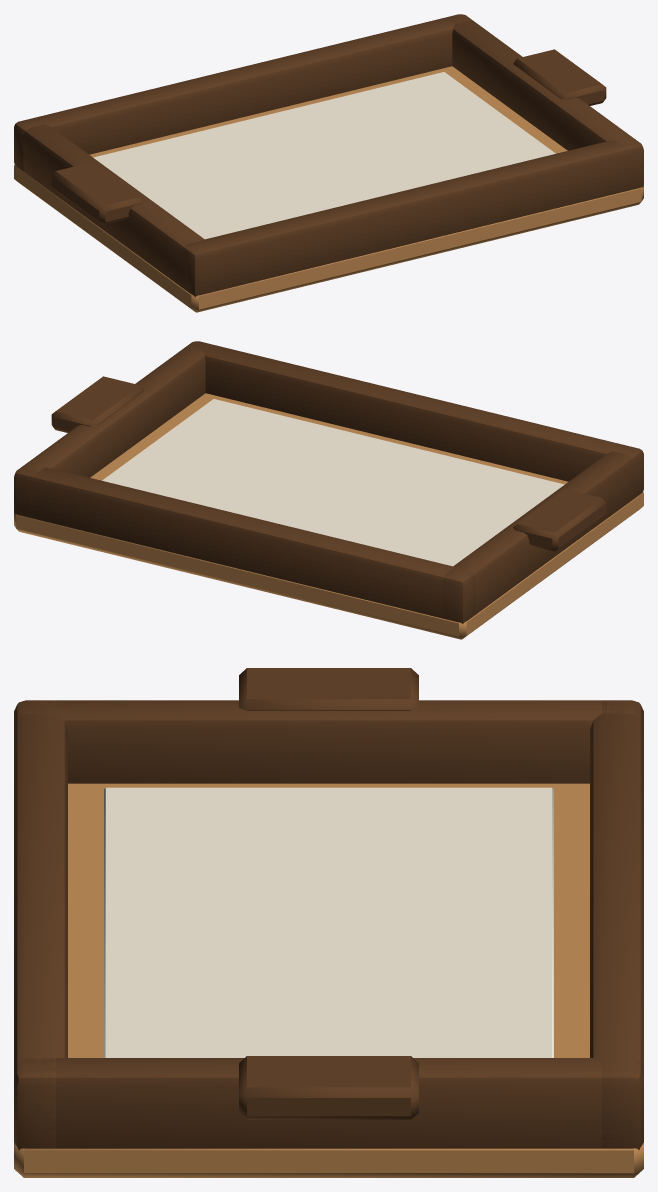
Rendered from ServingTray.fbx.
3 renders of one model, top to bottom at view 1: azimuth 30°, elevation 25°; view 2: azimuth 150°, elevation 25°; view 3: azimuth 270°, elevation 25°, orthographic. The views are drawn at different scales.
Visible parts, largest first — view 1: ServingTray; view 2: ServingTray; view 3: ServingTray.
Part boxes in pixels (left/top/right/bottom): ServingTray: left=14, top=14, right=643, bottom=312; ServingTray: left=14, top=341, right=643, bottom=639; ServingTray: left=14, top=668, right=643, bottom=1177.
Bounding box in the file's own units: 0.56 × 0.07 × 0.35.
